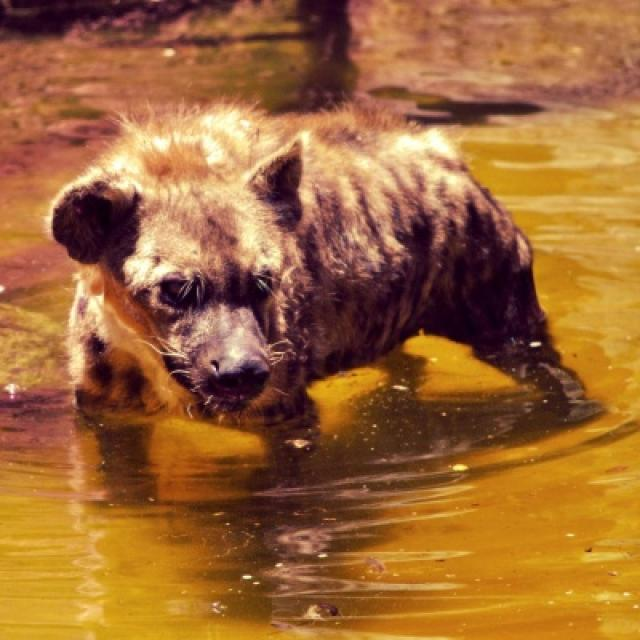hyena: (46, 93, 600, 440)
